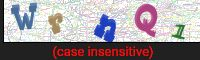1: (168, 20, 188, 42)
Q: (132, 1, 161, 39)
W: (7, 3, 41, 34)
n: (92, 11, 119, 42)
r: (45, 10, 68, 36)
